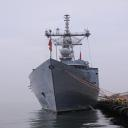Fragata: (29, 12, 102, 116)
